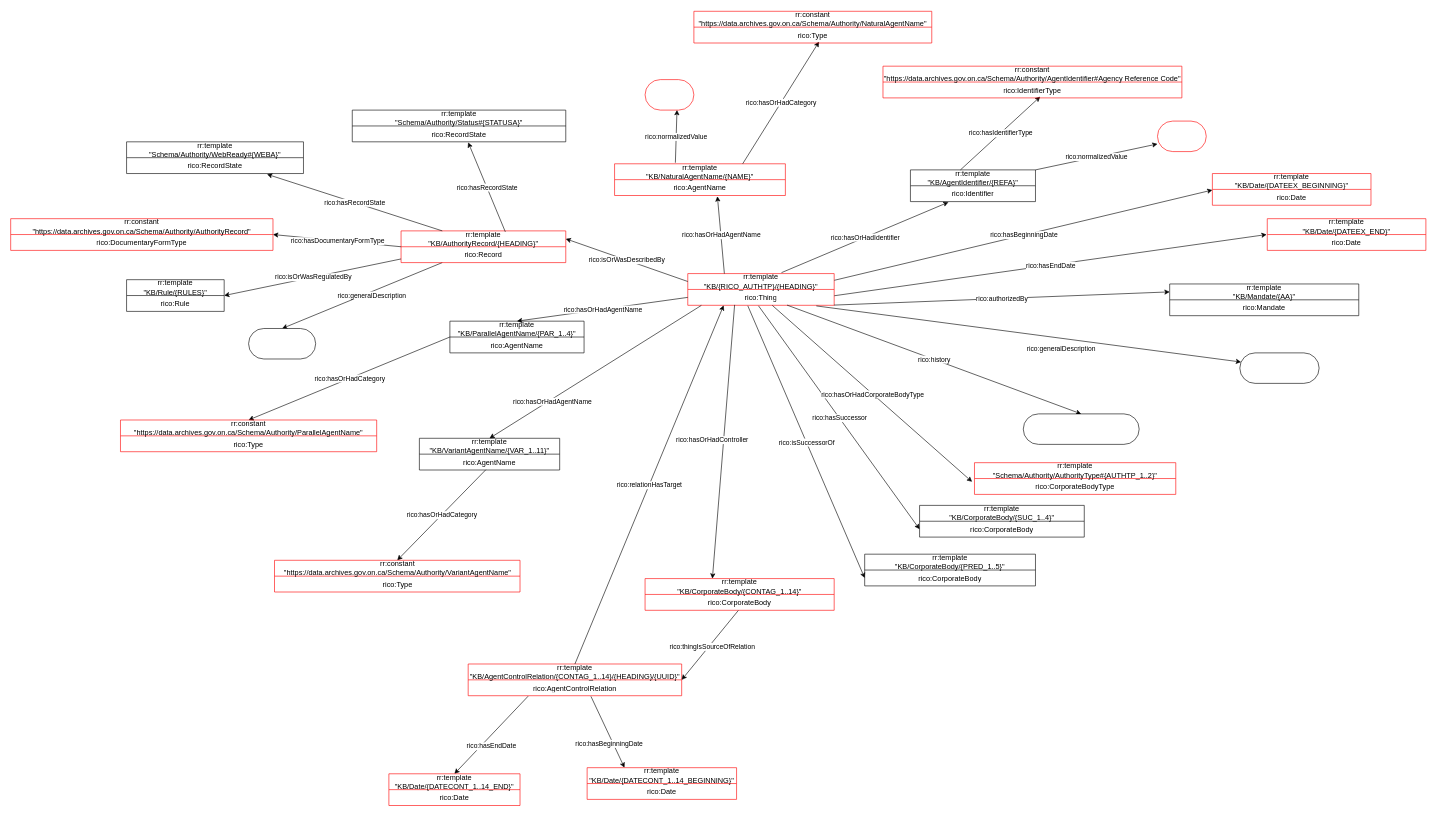
The diagram is 1437 pixels wide and 818 high, and some of its shapes have lost their labels. The centre of each missing label's shape, as x and y in pixels:
rml:reference " ADM ": pixel 1081 428
rml:reference " FUN ": pixel 1279 367
rml:reference " SOURCE ": pixel 282 343
rml:reference "NAME": pixel 669 94
rml:reference "REFA": pixel 1181 136
